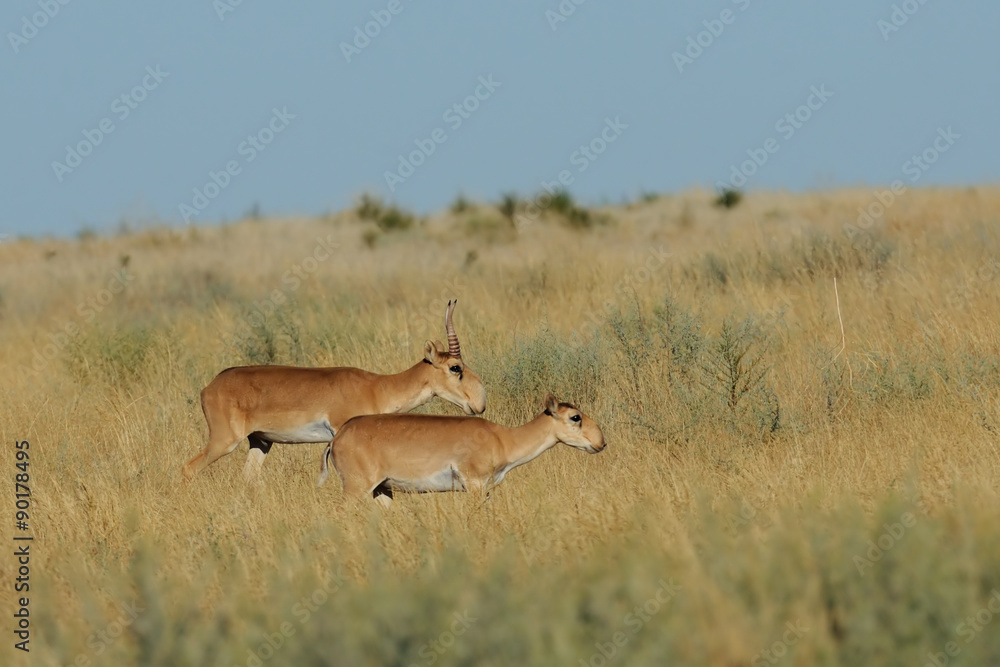saiga: (178, 297, 483, 497), (327, 403, 606, 511)
